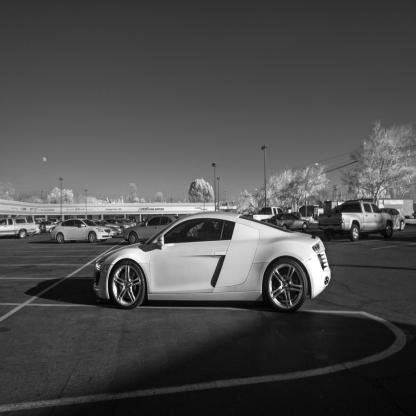Car: (93, 211, 331, 308), (122, 211, 198, 242), (49, 216, 138, 242), (262, 213, 312, 229), (0, 216, 29, 237), (383, 207, 406, 230)
